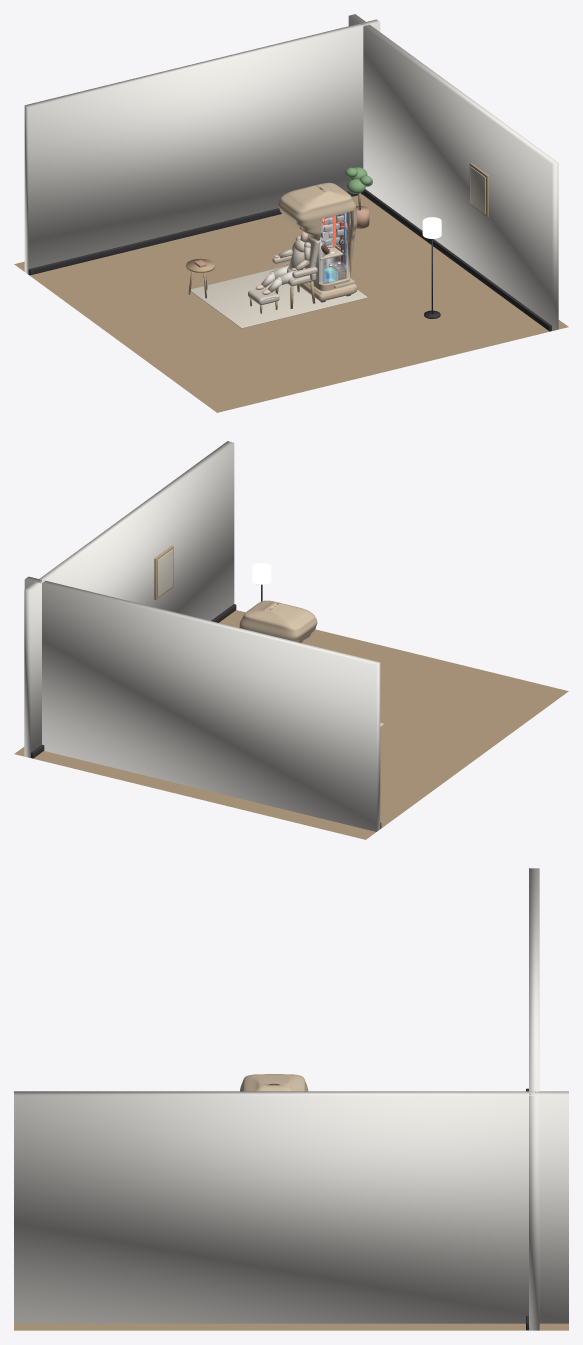
File: home.glb
3 renders of one model, top to bottom at view 1: azimuth 30°, elevation 25°; view 2: azimuth 150°, elevation 25°; view 3: azimuth 270°, elevation 25°, orthographic. The views are drawn at different scales.
Visible parts, largest first — view 1: Seat; view 2: Seat; view 3: Seat.
Part boxes in pixels (left/top/right/bottom): Seat: left=14, top=14, right=568, bottom=412; Seat: left=14, top=441, right=568, bottom=839; Seat: left=14, top=868, right=568, bottom=1330.
Bounding box in the file's own units: 6.4 × 3.74 × 6.4.
